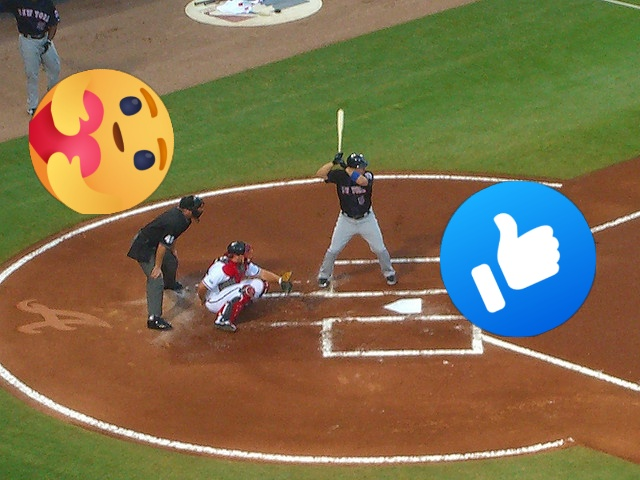care: (29, 69, 174, 214)
like: (440, 181, 596, 337)
